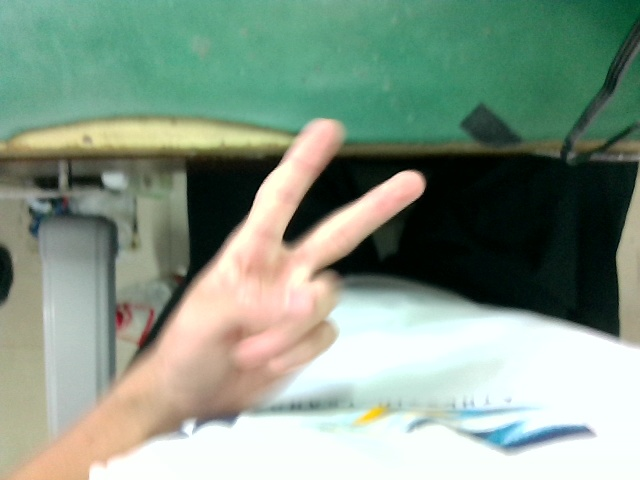scissor: (144, 112, 433, 430)
